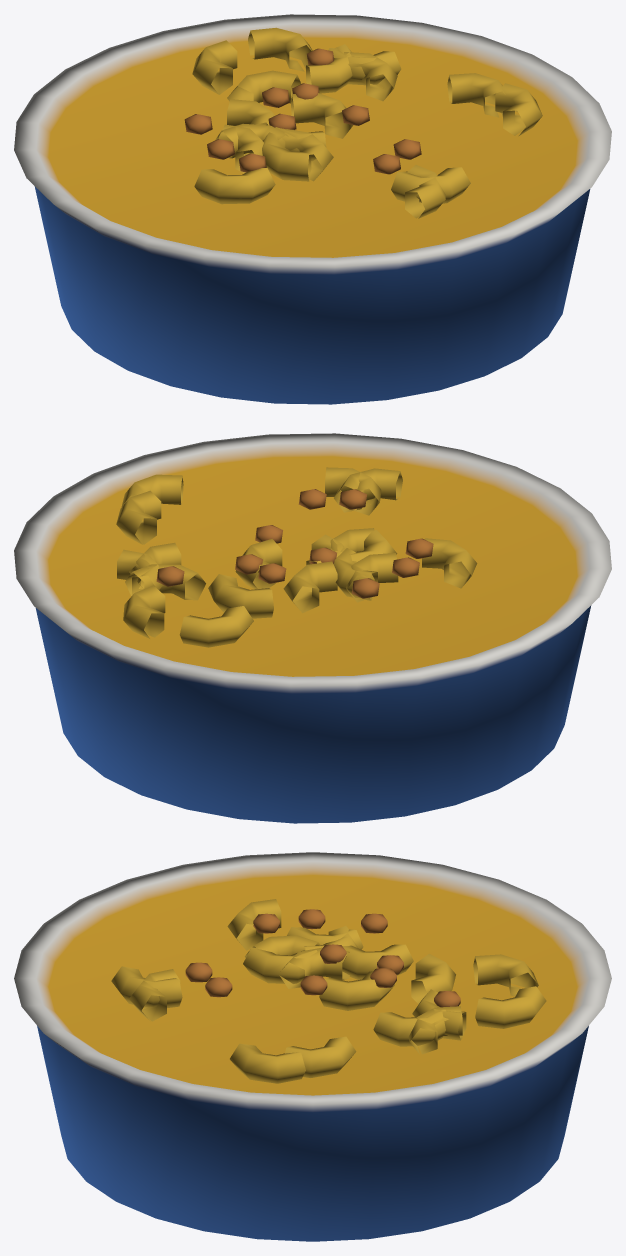
File: item_dish_mac_cheese.glb
The picture shows the model from 3 angles, top to bottom: view 1: azimuth 30°, elevation 25°; view 2: azimuth 150°, elevation 25°; view 3: azimuth 270°, elevation 25°; orthographic projection.
Visible parts, largest first — view 1: item_dish_mac_cheese_main; view 2: item_dish_mac_cheese_main; view 3: item_dish_mac_cheese_main.
Boxes of the visible parts, bbox=[...] form: item_dish_mac_cheese_main: bbox=[14, 14, 611, 404]; item_dish_mac_cheese_main: bbox=[14, 433, 611, 823]; item_dish_mac_cheese_main: bbox=[14, 852, 611, 1241].
Bounding box in the file's own units: 0.19 × 0.0635 × 0.19.
